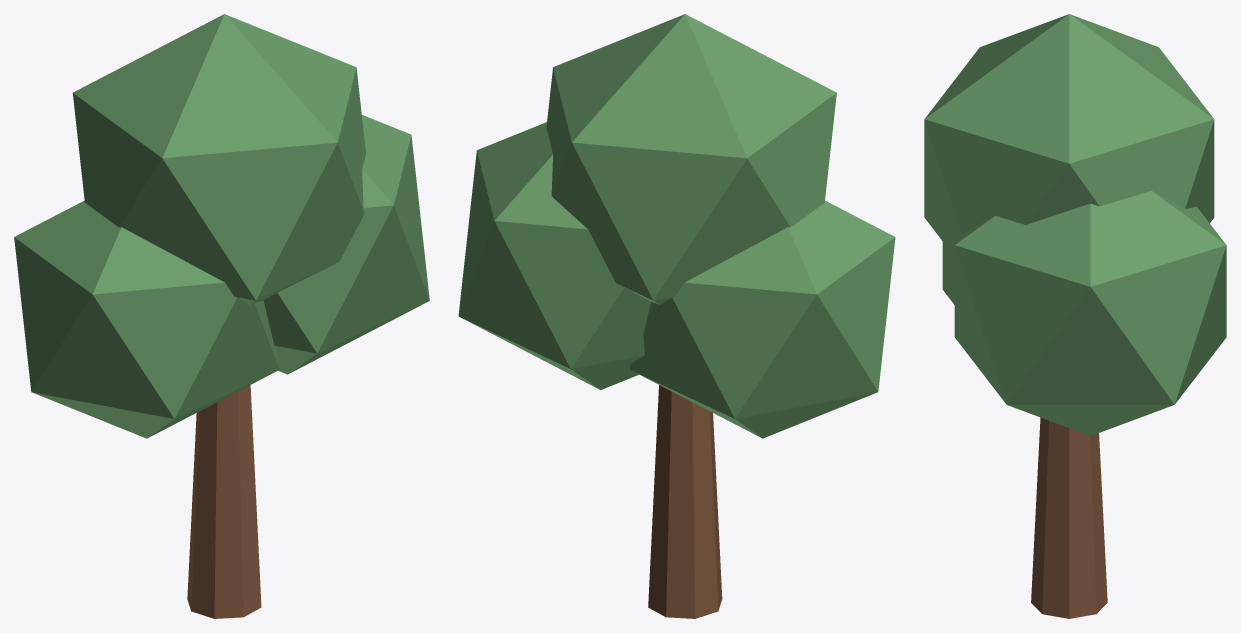
File: tree_a.glb
3 views of the same model, side by side, from view 1: azimuth 30°, elevation 25°; view 2: azimuth 150°, elevation 25°; view 3: azimuth 270°, elevation 25° (orthographic).
Parts seen in each view (by area): view 1: canopy.002, canopy, canopy.001, trunk; view 2: canopy.002, canopy, canopy.001, trunk; view 3: canopy.001, canopy.002, trunk, canopy.
Boxes of the visible parts, x1,y1,x2,y2 form: canopy.002: (72,14,365,304); canopy: (14,200,279,438); canopy.001: (263,115,429,374); trunk: (187,385,261,618); canopy.002: (546,14,836,304); canopy: (630,200,895,438); canopy.001: (458,122,650,389); trunk: (648,385,722,618); canopy.001: (954,190,1226,435); canopy.002: (924,14,1214,256); trunk: (1031,417,1107,618); canopy: (942,242,954,304).
Bounding box in the file's own units: 2.12 × 3.05 × 1.42.
